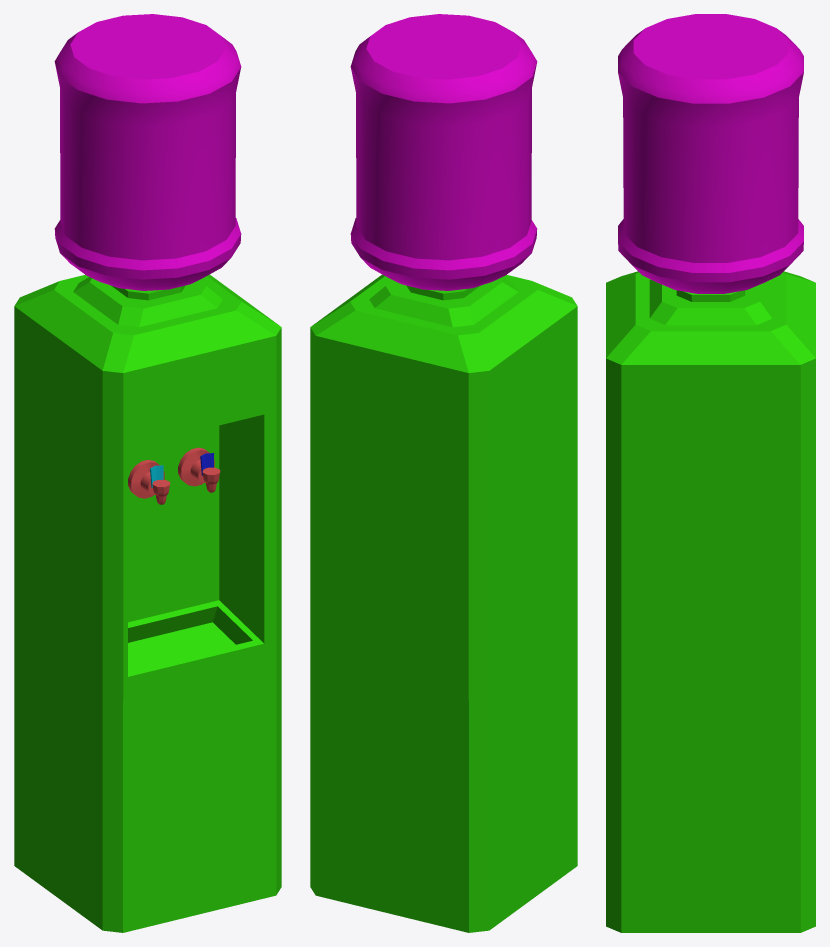
Rendered from кулер.fbx.
The picture shows the model from 3 angles, left to right: view 1: azimuth 30°, elevation 25°; view 2: azimuth 150°, elevation 25°; view 3: azimuth 270°, elevation 25°; orthographic projection.
Visible parts, largest first — view 1: Cube.001; view 2: Cube.001; view 3: Cube.001.
Part boxes in pixels (bbox=[...]): Cube.001: bbox=[14, 14, 281, 932]; Cube.001: bbox=[310, 14, 577, 932]; Cube.001: bbox=[606, 14, 815, 932].
Bounding box in the file's own units: 2 × 8.85 × 2.
